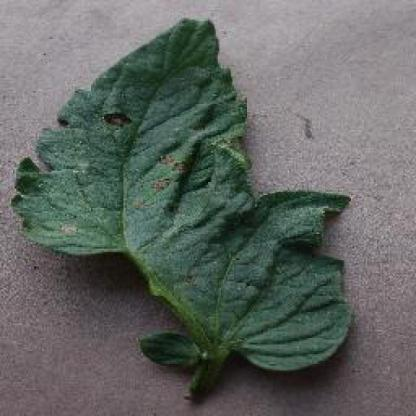Tomato_Blight: (12, 16, 354, 372)
